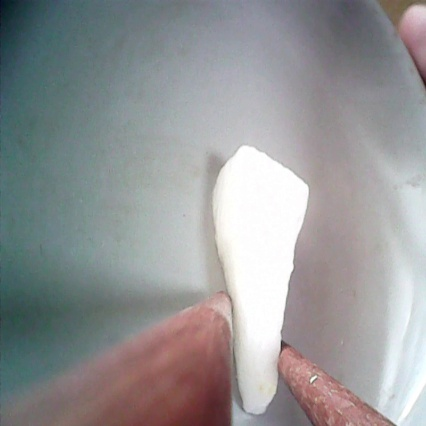white_chinese-yam: (210, 139, 316, 419)
